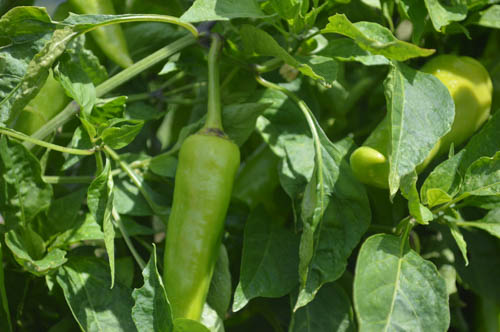ChiliPepper: (346, 56, 494, 196), (157, 136, 239, 326)
